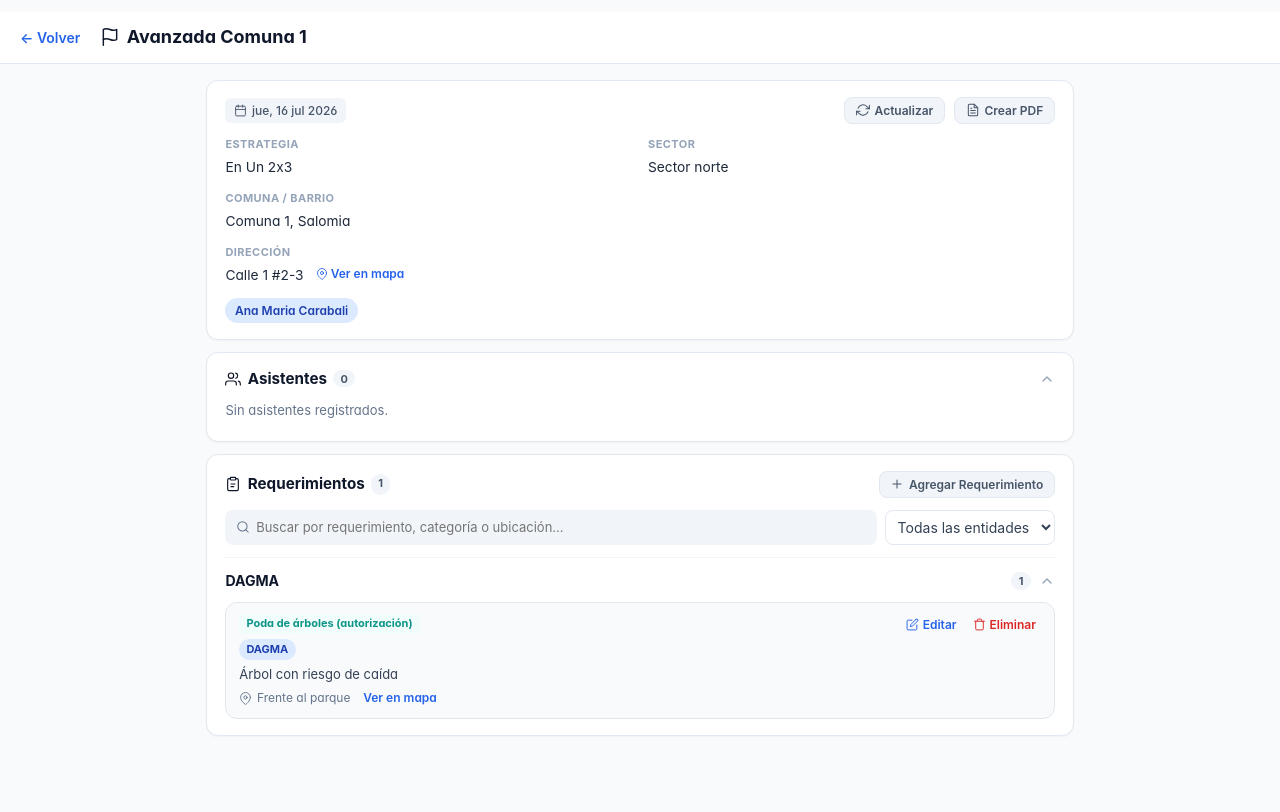
DetalleAvanzada › requerimientos › an entidad group is collapsible
Expected: the text "Árbol con riesgo de caída" is shown, [239,666,398,682]
Step 1. Click the button "DAGMA 1" → {"x": 252, "y": 581}, box [225,568,1055,594]
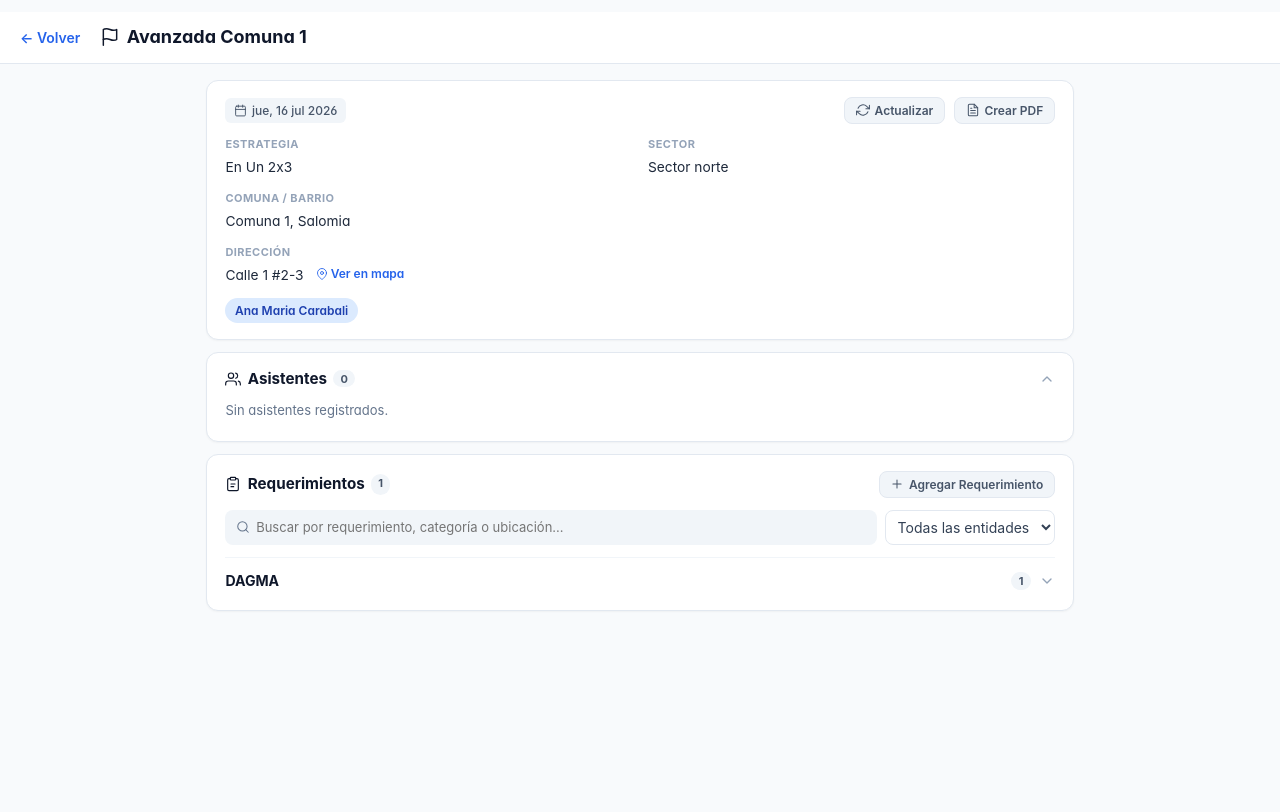
Expected: the text "Árbol con riesgo de caída" is gone
